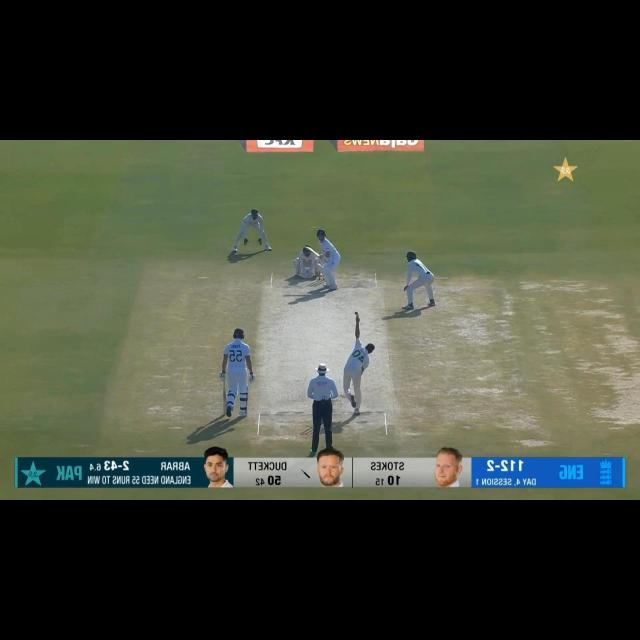bat: (221, 389, 228, 416), (303, 246, 320, 257)
toe: (221, 409, 228, 416), (304, 246, 312, 251)
